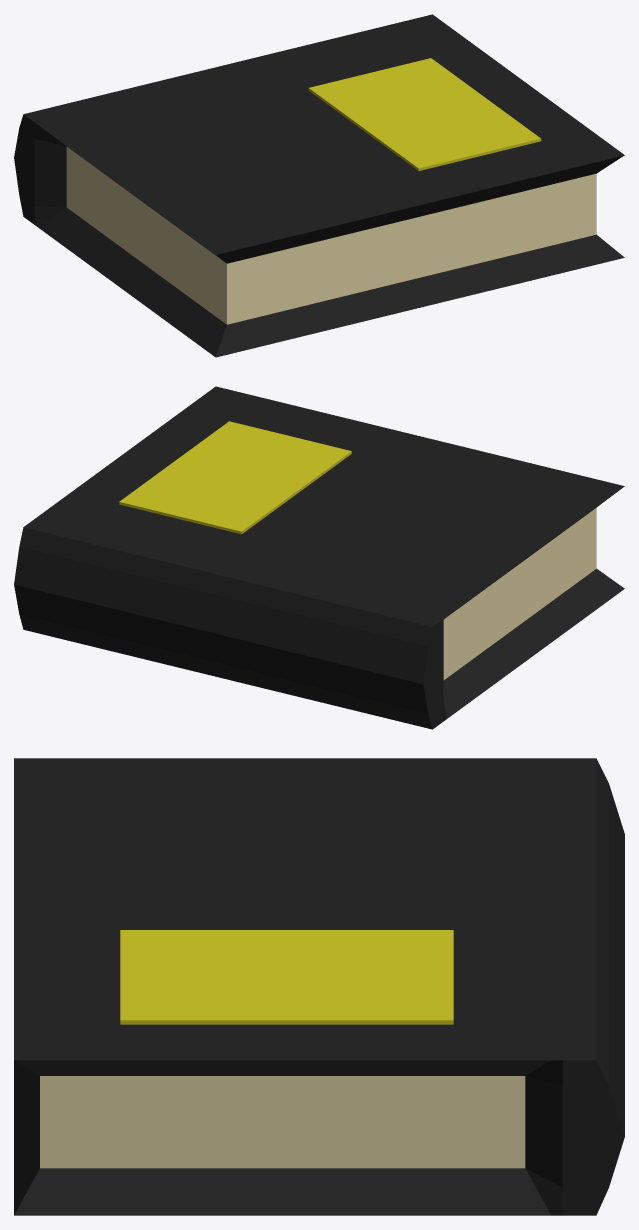
File: yellow-book.fbx
3 views of the same model, one above another, from view 1: azimuth 30°, elevation 25°; view 2: azimuth 150°, elevation 25°; view 3: azimuth 270°, elevation 25° (orthographic). The views are drawn at different scales.
Parts seen in each view (by area): view 1: Cube; view 2: Cube; view 3: Cube.
Part boxes in pixels (<box>): Cube: <box>14,14,624,357</box>; Cube: <box>14,386,624,729</box>; Cube: <box>14,758,624,1215</box>.
Bounding box in the file's own units: 200 × 49.19 × 171.
